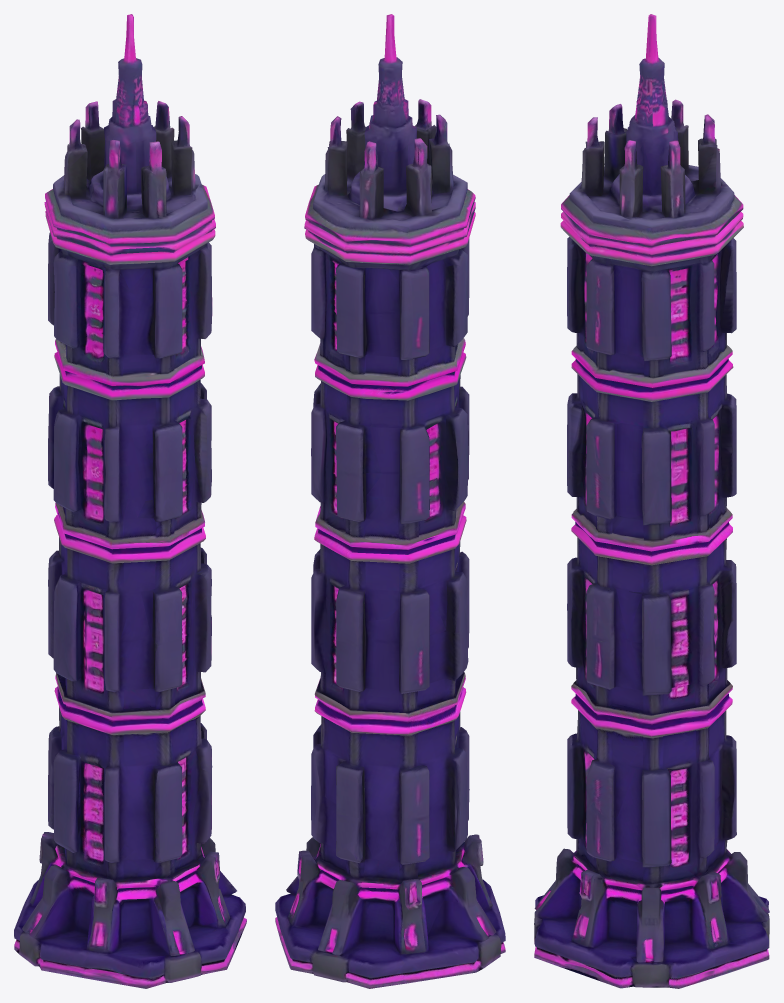
File: env-building-3.glb
The picture shows the model from 3 angles, left to right: view 1: azimuth 30°, elevation 25°; view 2: azimuth 150°, elevation 25°; view 3: azimuth 270°, elevation 25°; orthographic projection.
Parts seen in each view (by area): view 1: env-building-3; view 2: env-building-3; view 3: env-building-3.
Part boxes in pixels (x1=…): env-building-3: x1=14, y1=14, x2=246, y2=988; env-building-3: x1=275, y1=14, x2=505, y2=988; env-building-3: x1=534, y1=14, x2=769, y2=988.
Size of the model in its own units: 5.12 by 22 by 5.09.
1 material, 1 textured.
